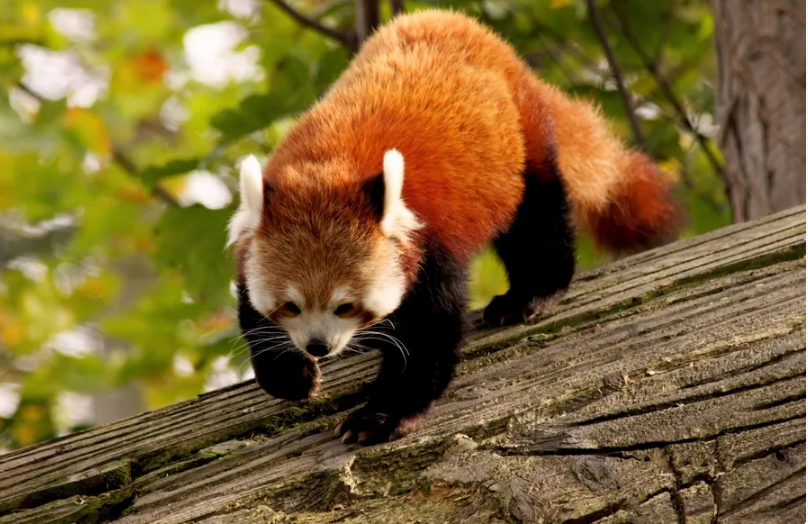red_panda: (223, 21, 572, 451)
